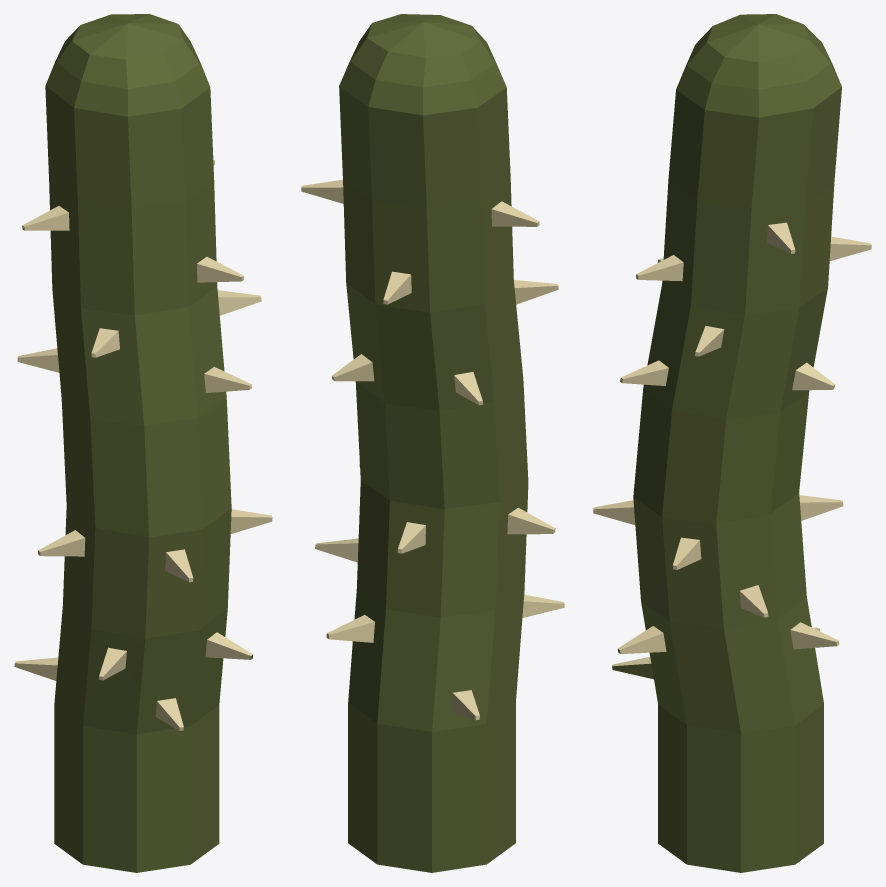
The model's file is Cactus_1_1_2_Colored.fbx.
The picture shows the model from 3 angles, left to right: view 1: azimuth 30°, elevation 25°; view 2: azimuth 150°, elevation 25°; view 3: azimuth 270°, elevation 25°; orthographic projection.
Visible parts, largest first — view 1: Cactus_1_1_2; view 2: Cactus_1_1_2; view 3: Cactus_1_1_2.
Part boxes in pixels (x1,y1,x2,y2): Cactus_1_1_2: (14, 14, 272, 872); Cactus_1_1_2: (301, 14, 564, 872); Cactus_1_1_2: (593, 14, 871, 872).
Size of the model in its own units: 54.87 by 200 by 62.07.
